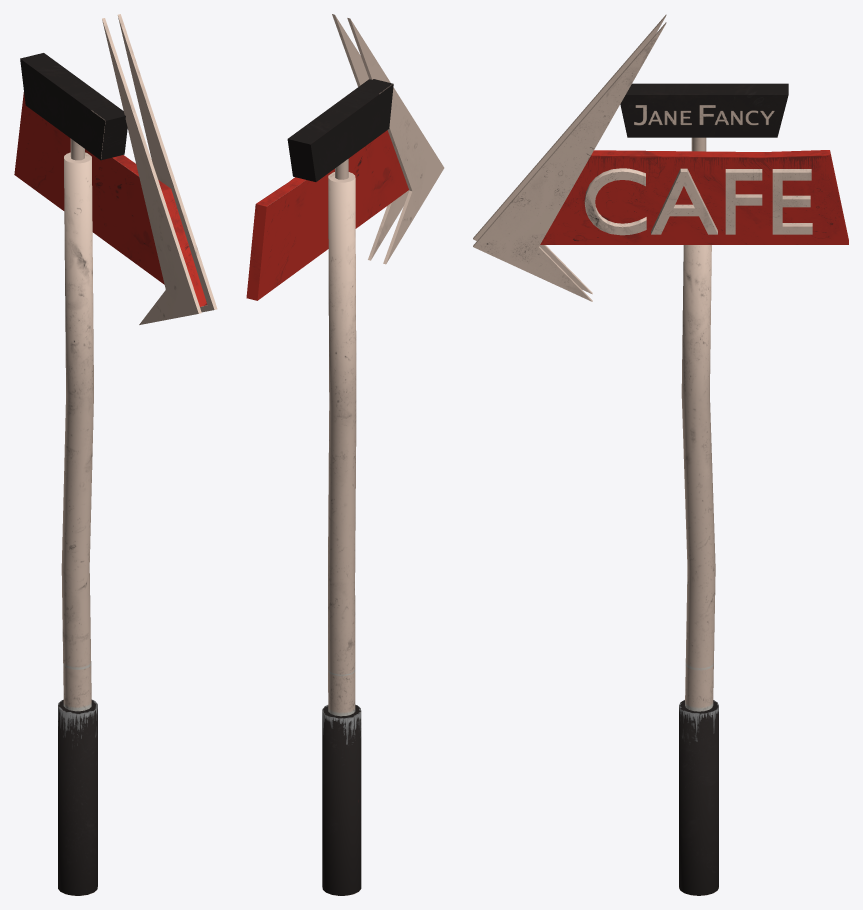
Rendered from sign.fbx.
3 renders of one model, left to right at view 1: azimuth 30°, elevation 25°; view 2: azimuth 150°, elevation 25°; view 3: azimuth 270°, elevation 25°, orthographic. The views are drawn at different scales.
Parts seen in each view (by area): view 1: LP; view 2: LP; view 3: LP.
Part boxes in pixels (x1=…): LP: x1=14, y1=14, x2=217, y2=895; LP: x1=246, y1=14, x2=444, y2=895; LP: x1=473, y1=14, x2=848, y2=895.
Bounding box in the file's own units: 136 × 2401 × 932.
1 material, 1 textured.
